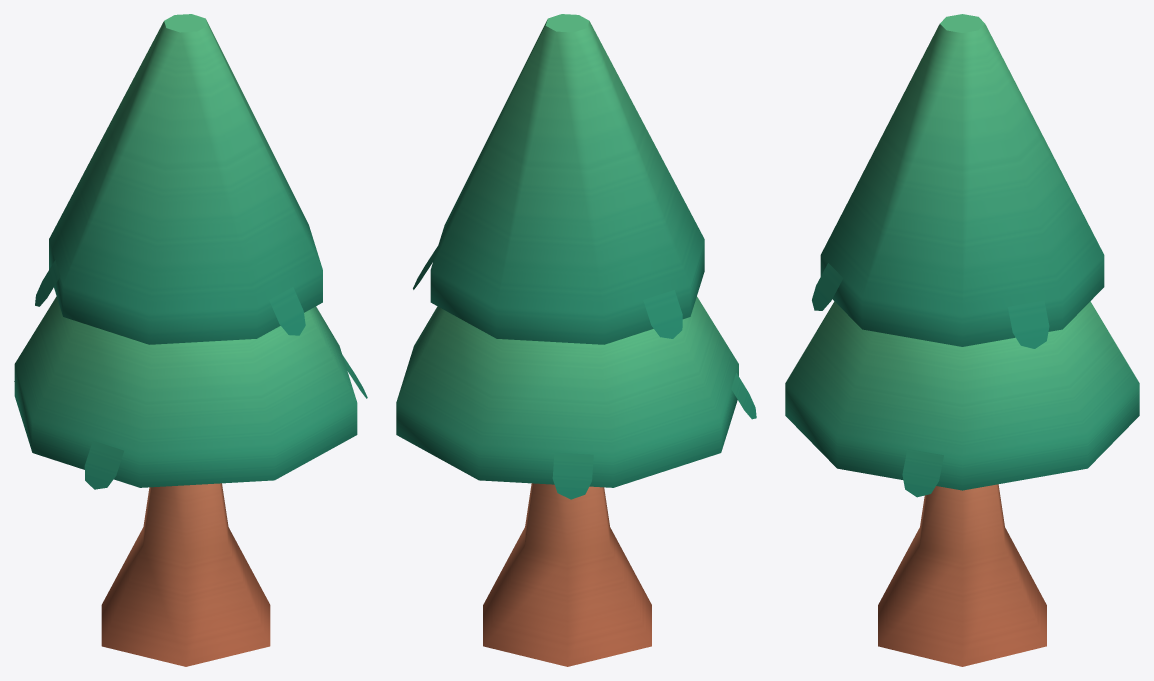
The model's file is tree-small.fbx.
3 views of the same model, side by side, from view 1: azimuth 30°, elevation 25°; view 2: azimuth 150°, elevation 25°; view 3: azimuth 270°, elevation 25° (orthographic).
Visible parts, largest first — view 1: tree-small; view 2: tree-small; view 3: tree-small.
Part boxes in pixels (x1,y1,x2,y2): tree-small: (14,14,367,666); tree-small: (396,14,756,666); tree-small: (785,14,1139,666).
Bounding box in the file's own units: 0.7381 × 0.72 × 1.35.
